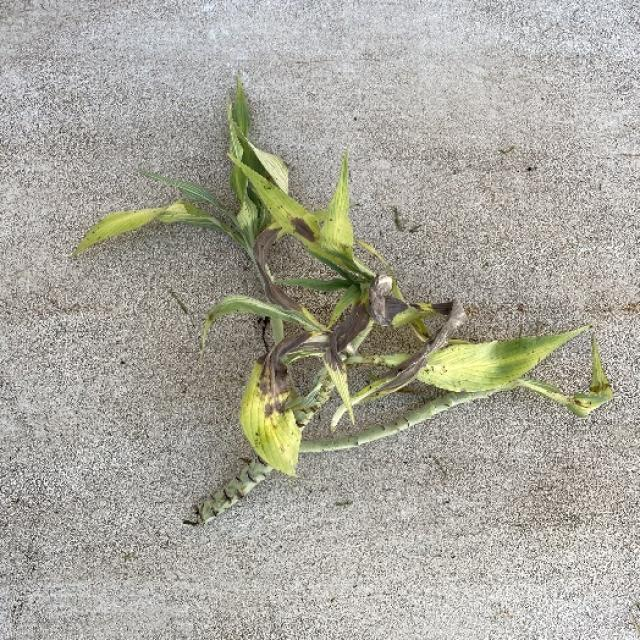wet: (100, 63, 613, 531)
